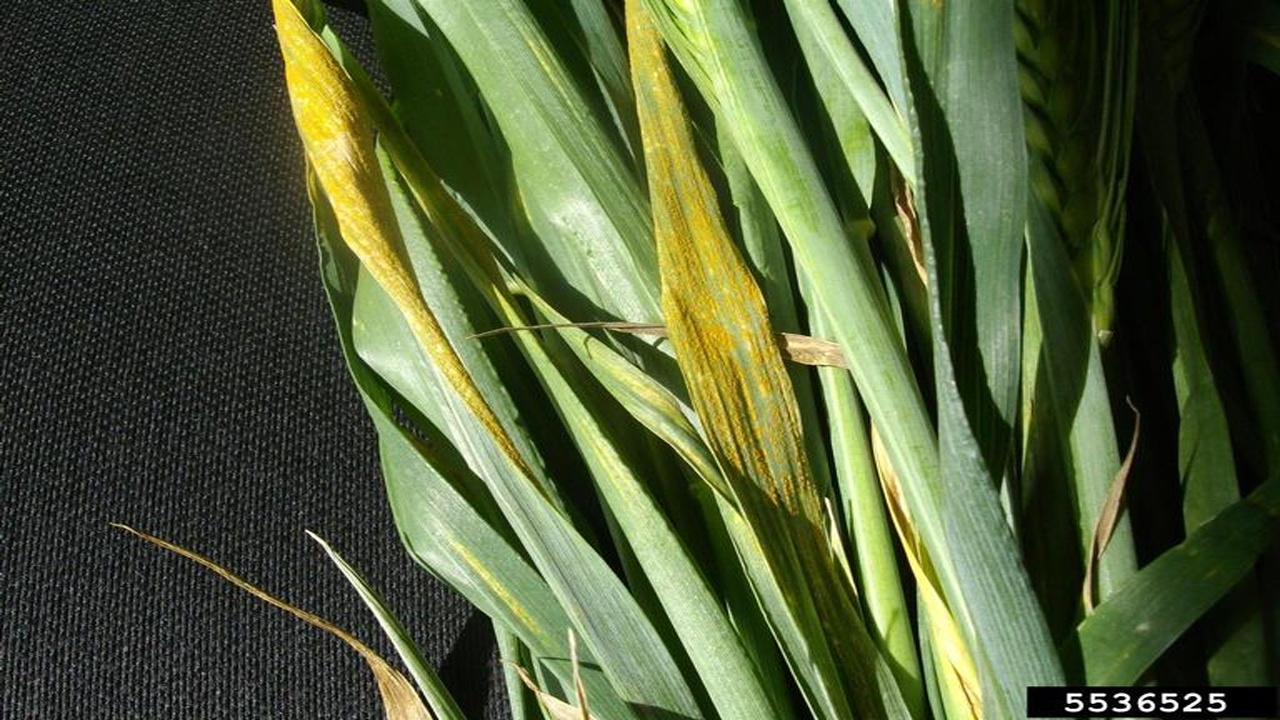stripe_rust: (622, 1, 889, 720), (271, 1, 585, 545), (381, 442, 622, 720), (113, 523, 429, 720), (502, 267, 731, 497)
